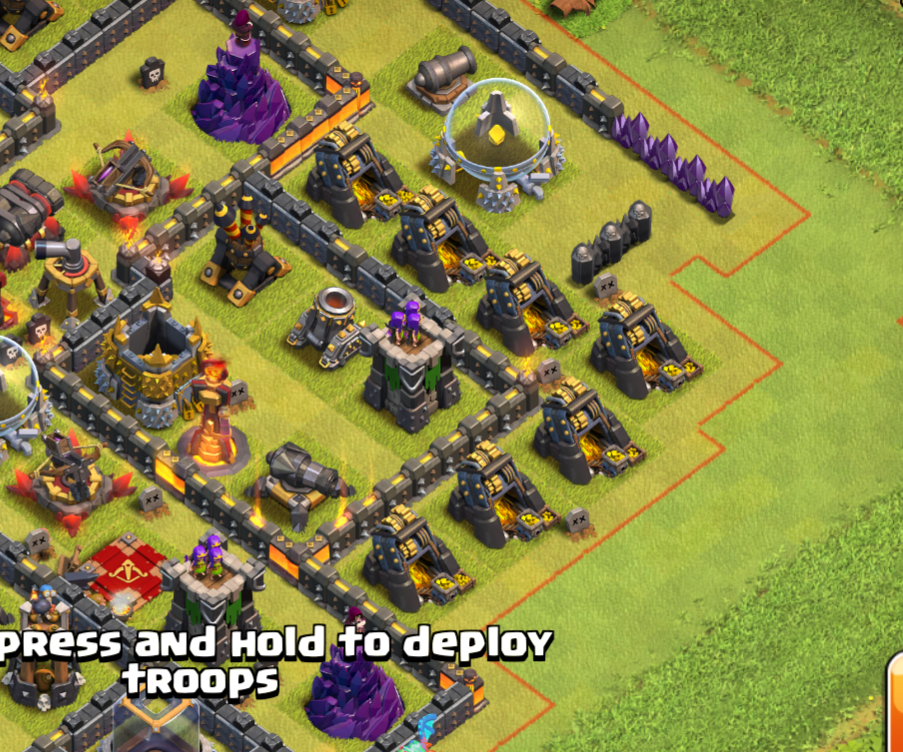gold_mine: (351, 503, 477, 622), (580, 287, 699, 403), (301, 116, 410, 239), (442, 443, 562, 551), (384, 178, 489, 295), (476, 245, 576, 356), (533, 377, 634, 485)
